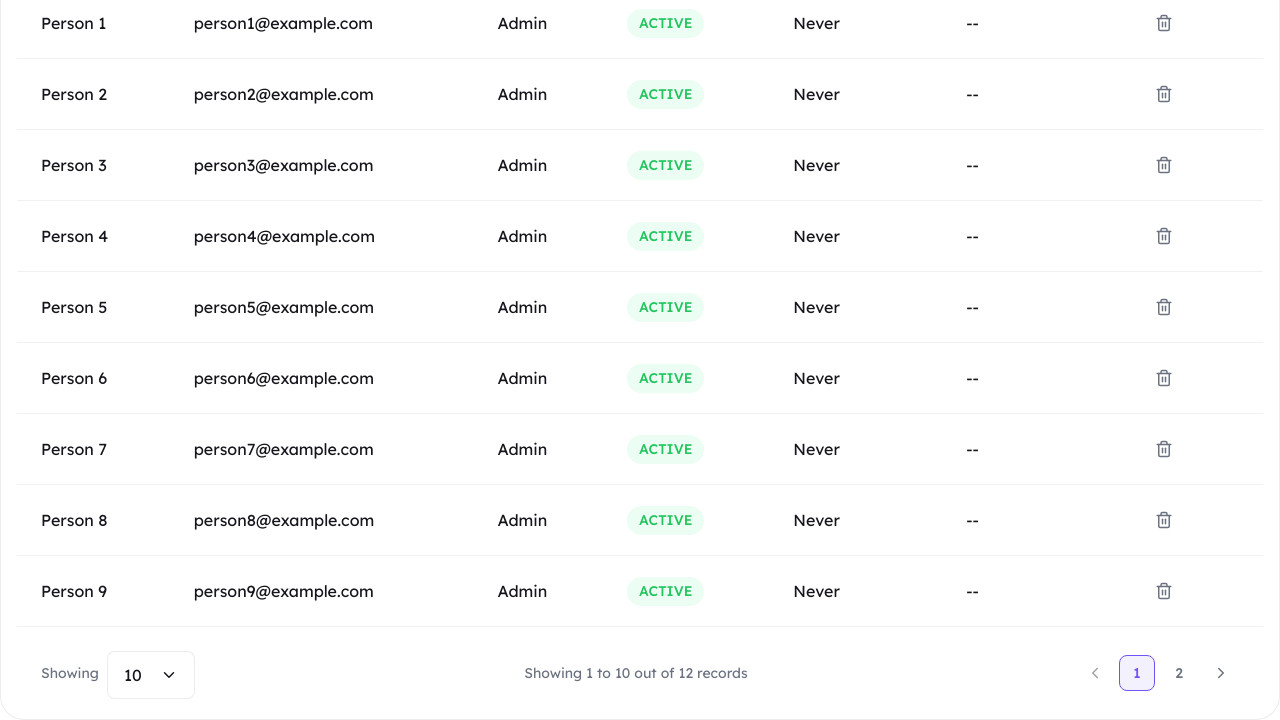
Test: UsersDashboard › pagination › shows the remaining accounts on the next page
(page scrolled)
Click the button named "Next page".
click(1221, 673)  # box [1203,655,1239,691]
(page scrolled)
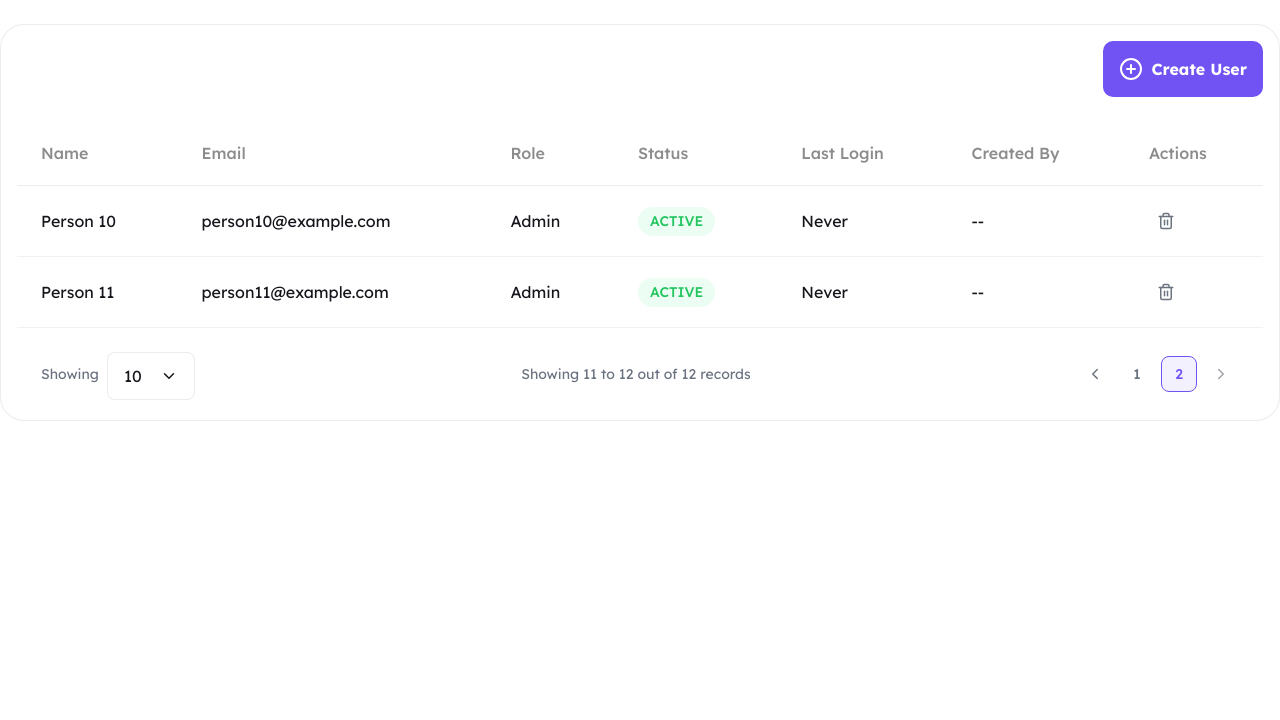
Now the cell "Person 10" is shown, box [17,186,178,256]
Now the cell "Person 11" is shown, box [17,256,178,328]
Now the text "Showing 11 to 12 out of 12 records" is shown, box [521,363,751,385]
